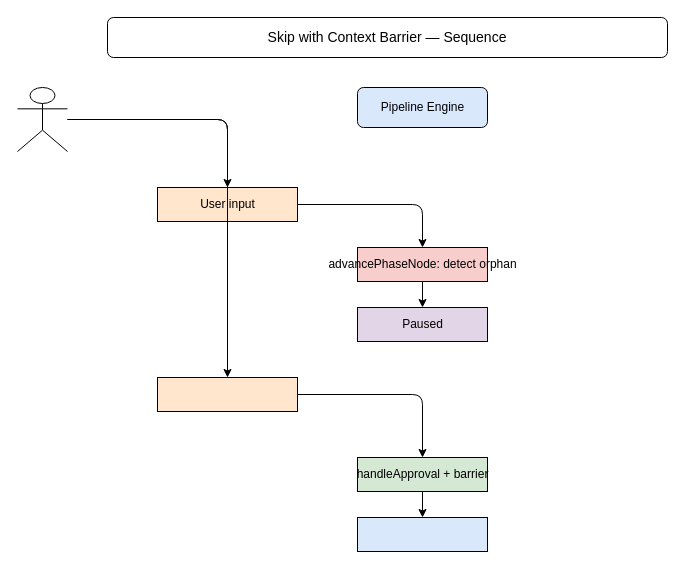
Some shapes in this 685 by 569 pixel diagram are drawn without their labels. The shapes that lost their labels are listed below. From the top down, each one's centre as x and y in pixels, then its label:
[42,119]: User
[227,394]: Skip
[422,534]: Next Phase
